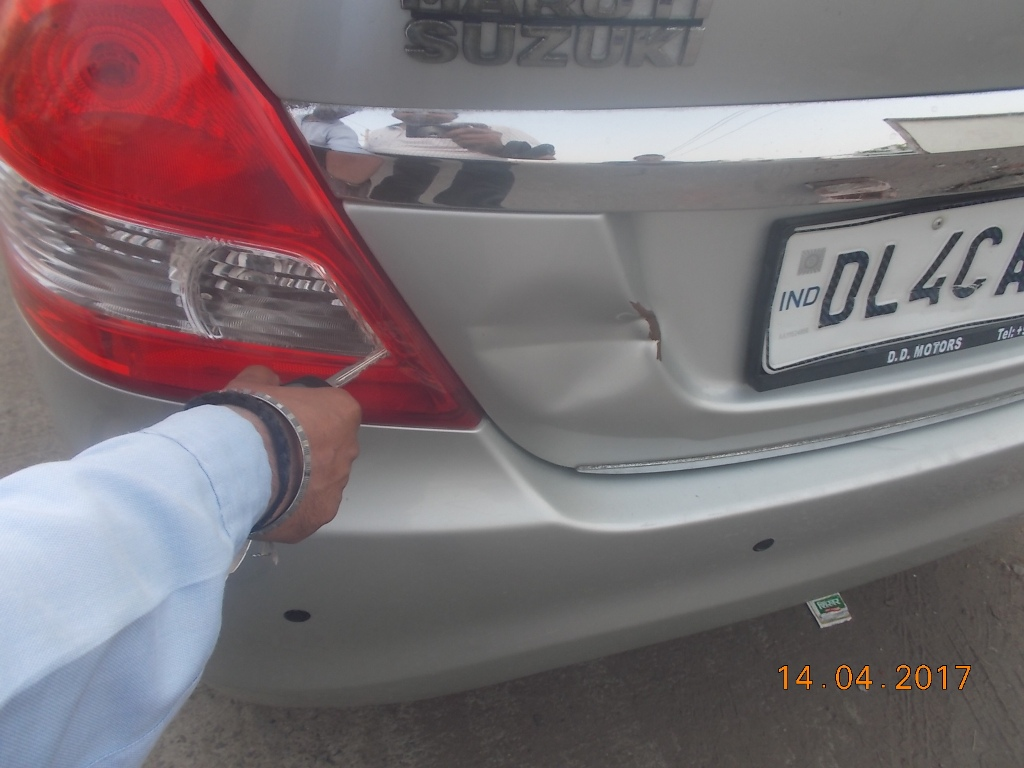Dent: (478, 261, 678, 410)
